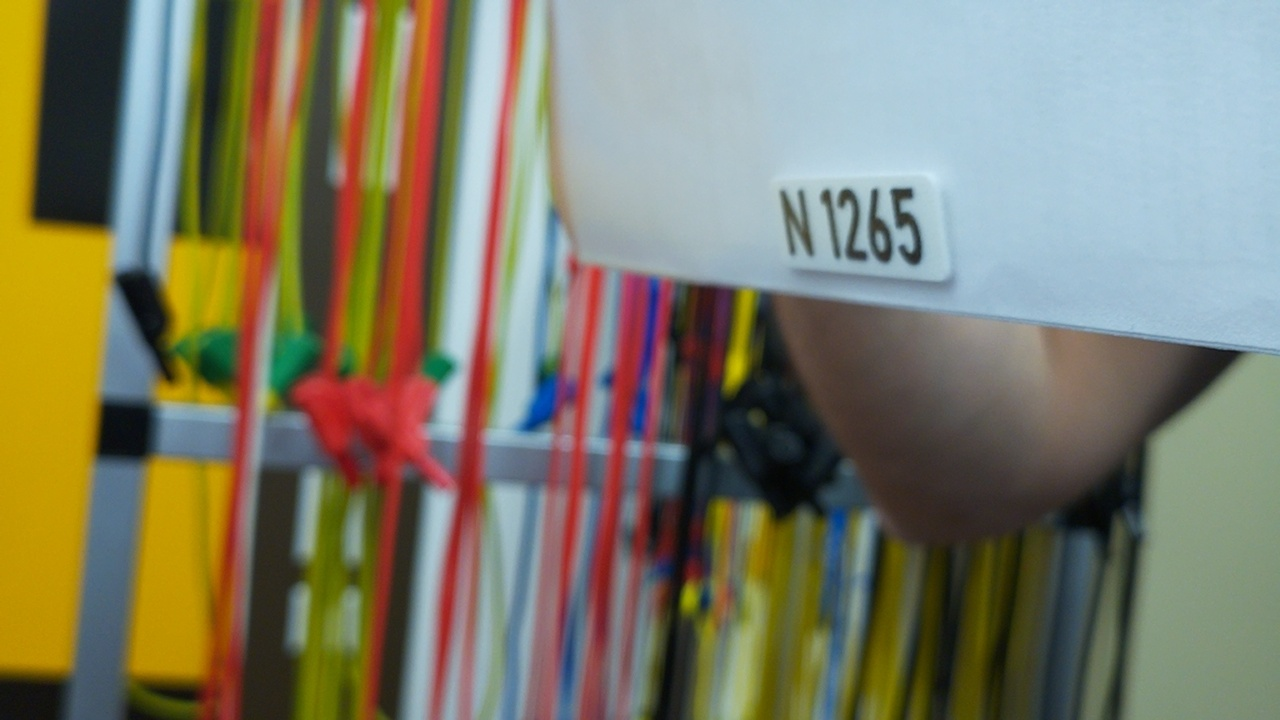license_plate: (765, 170, 961, 286)
